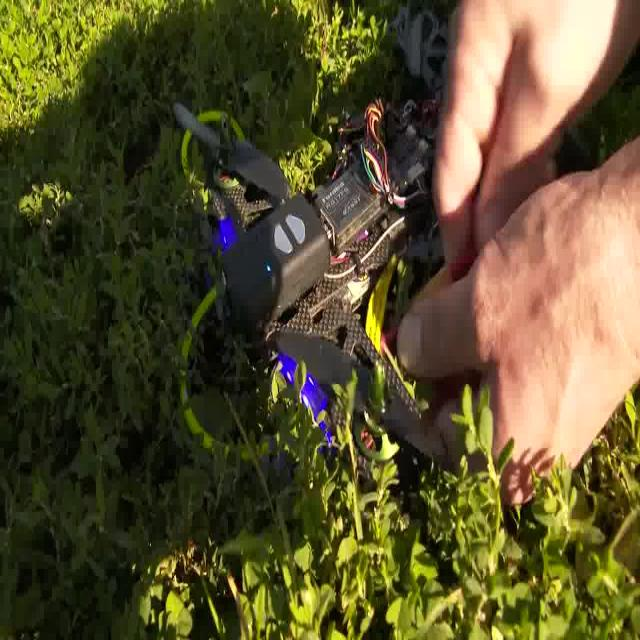drones: (170, 89, 440, 495)
